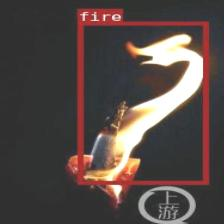fire: (77, 21, 208, 184)
